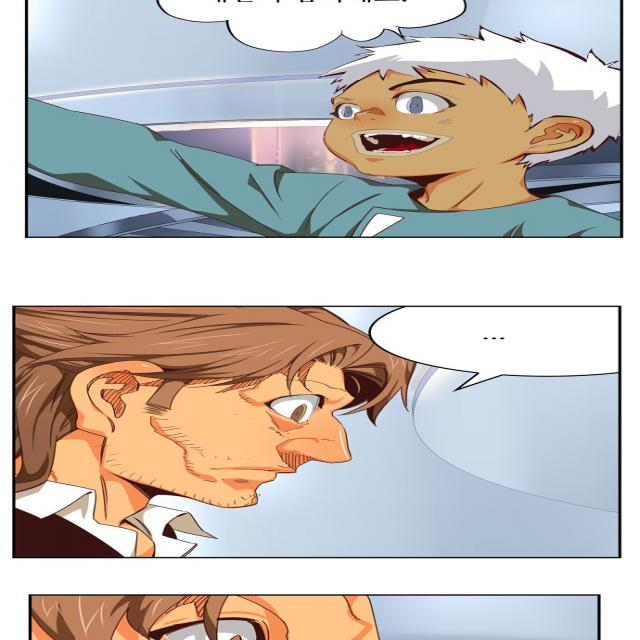Bubble: (372, 306, 622, 376), (161, 0, 462, 52)
